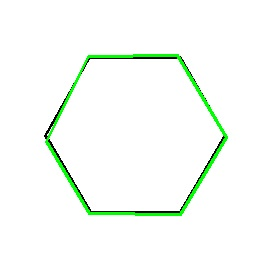line_segment: (44, 55, 227, 215)
